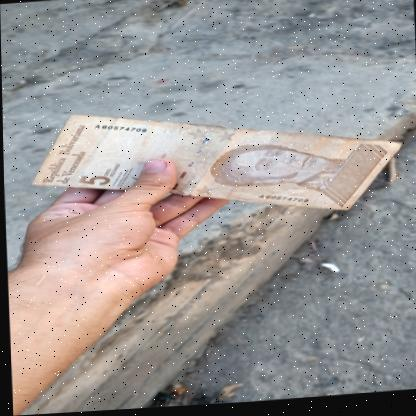five-front-vef: (26, 92, 405, 235)
